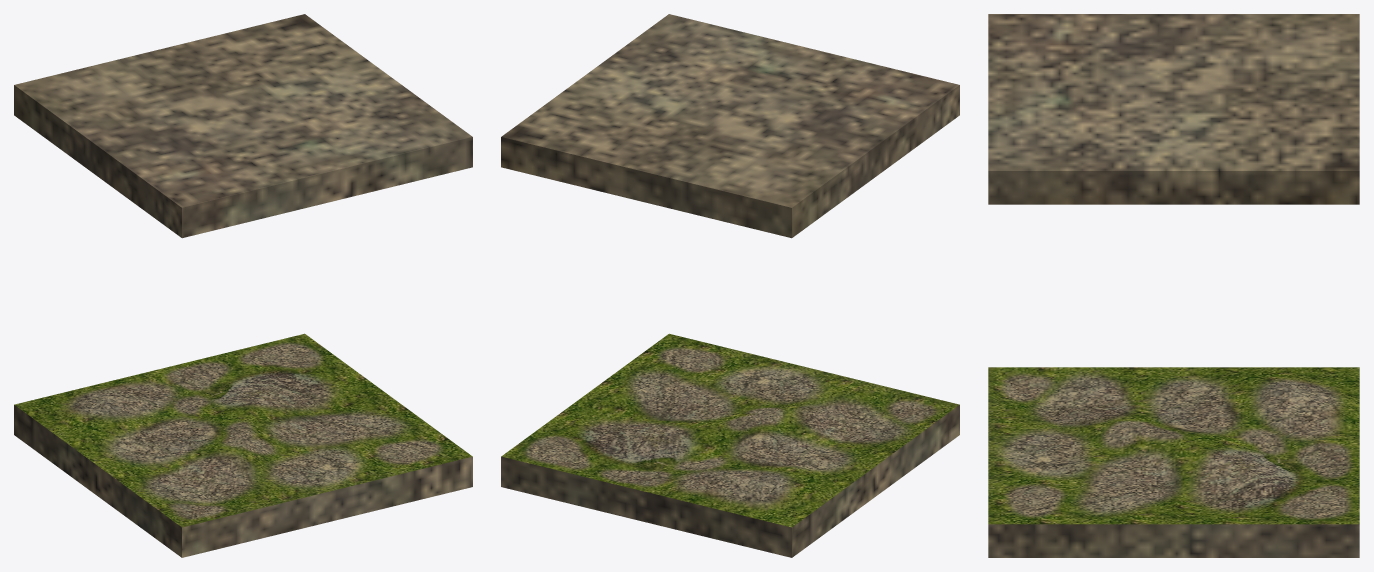
File: MossFloor2_small.glb
3 renders of one model, left to right at view 1: azimuth 30°, elevation 25°; view 2: azimuth 150°, elevation 25°; view 3: azimuth 270°, elevation 25°, orthographic. The views are drawn at different scales.
Parts seen in each view (by area): view 1: Cube; view 2: Cube; view 3: Cube.
Boxes of the visible parts, <box> form: Cube: <box>14,14,472,557</box>; Cube: <box>501,14,959,557</box>; Cube: <box>988,14,1359,557</box>.
Bounding box in the file's own units: 2 × 2.3 × 2.
Materials: 1 (1 with a texture image).
